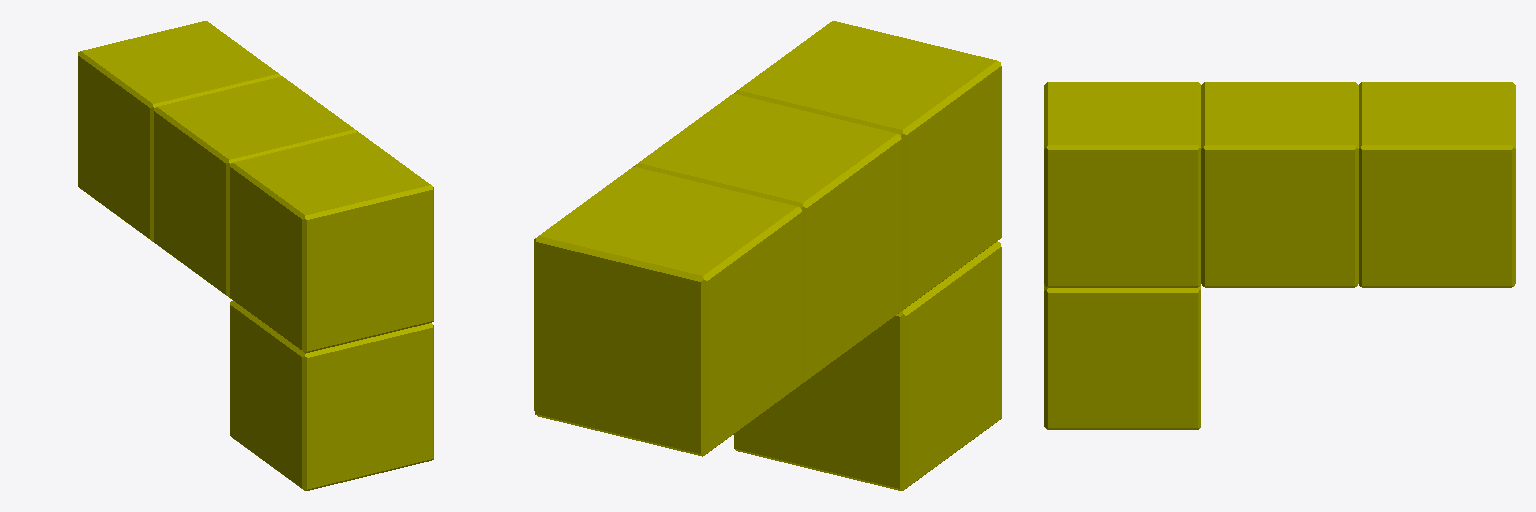
The robot description file, URDF, robot "yellow_block":
<?xml version="1.0"?>
<robot name="yellow_block">
	<link name="base_link">
		<visual>
			<geometry>
				<mesh filename="package://irsl_sim_environments/urdf/puzzle_blocks/yellow_block/yellow_block_base_link.dae" />
			</geometry>
		</visual>
		<collision>
			<origin xyz="0.000000000000e+00 0.000000000000e+00 0.000000000000e+00" rpy="0.000000000000e+00 -0.000000000000e+00 0.000000000000e+00" />
			<geometry>
				<box size="3.000000000000e-02 3.000000000000e-02 3.000000000000e-02" />
			</geometry>
		</collision>
		<collision>
			<origin xyz="0.000000000000e+00 0.000000000000e+00 3.000000000000e-02" rpy="0.000000000000e+00 -0.000000000000e+00 0.000000000000e+00" />
			<geometry>
				<box size="3.000000000000e-02 3.000000000000e-02 3.000000000000e-02" />
			</geometry>
		</collision>
		<collision>
			<origin xyz="0.000000000000e+00 3.000000000000e-02 3.000000000000e-02" rpy="0.000000000000e+00 -0.000000000000e+00 0.000000000000e+00" />
			<geometry>
				<box size="3.000000000000e-02 3.000000000000e-02 3.000000000000e-02" />
			</geometry>
		</collision>
		<collision>
			<origin xyz="0.000000000000e+00 6.000000000000e-02 3.000000000000e-02" rpy="0.000000000000e+00 -0.000000000000e+00 0.000000000000e+00" />
			<geometry>
				<box size="3.000000000000e-02 3.000000000000e-02 3.000000000000e-02" />
			</geometry>
		</collision>
		<inertial>
			<mass value="0.021599999999999998" />
			<origin xyz="0.000000000000e+00 2.250000000000e-02 2.250000000000e-02" />
			<inertia ixx="2.0249999999999998e-05" ixy="0" ixz="0" iyy="6.8849999999999976e-06" iyz="-3.644999999999999e-06" izz="1.6604999999999998e-05" />
		</inertial>
	</link>
</robot>

--- What the picture shows (computed from the rendered views, not written in the file) ---
3 views of the same robot in one strip: view 1: azimuth 30°, elevation 25°; view 2: azimuth 150°, elevation 25°; view 3: azimuth 270°, elevation 25° (orthographic).
Model yellow_block with 1 links and 0 joints (none), rooted at base_link, posed every joint at zero.
Visible links, largest first — view 1: base_link; view 2: base_link; view 3: base_link.
Link boxes in pixels (x1=…): base_link: x1=78, y1=21, x2=433, y2=490; base_link: x1=534, y1=21, x2=1001, y2=490; base_link: x1=1044, y1=82, x2=1515, y2=429.
Size in the robot's own frame: 0.03 by 0.09 by 0.06 metres.
1 mesh visuals loaded from 1 distinct referenced files (1 Collada DAE).